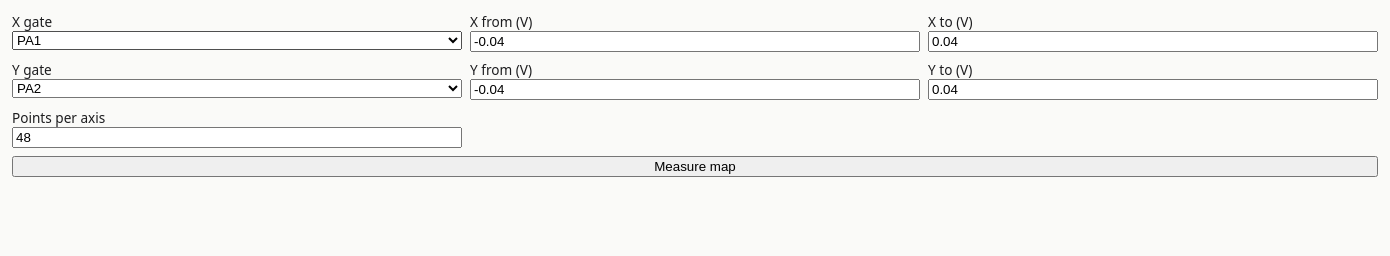
Test: CsdPanel › refuses the same gate on both axes
Step 1. Select "PA2" in the dropdown labelled "X gate" → (237, 40), box [12,31,462,50]
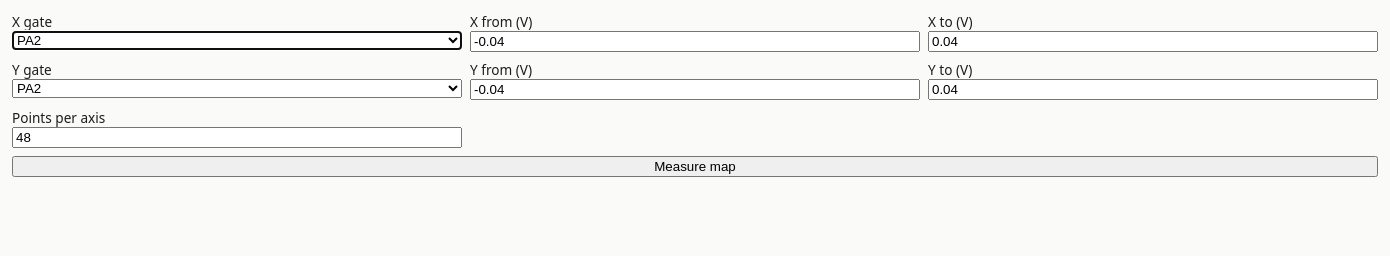
Step 2. Click the button "Measure map" → (695, 166), box [12,156,1378,177]
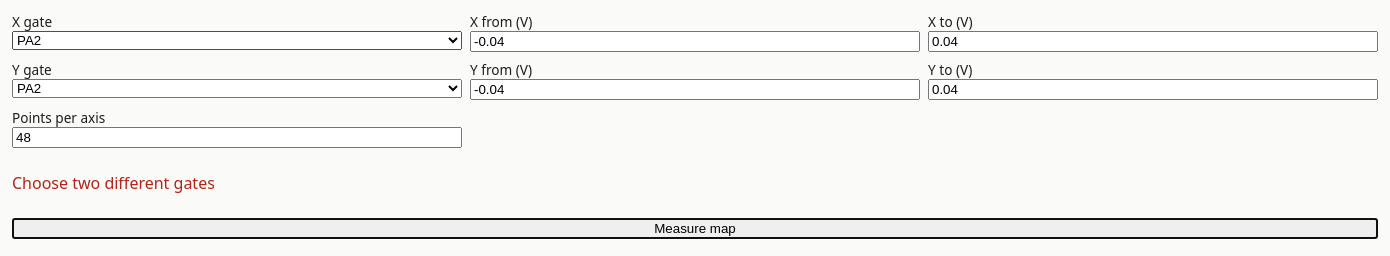
Expected: the message shows "different gates", [12,172,215,194]
